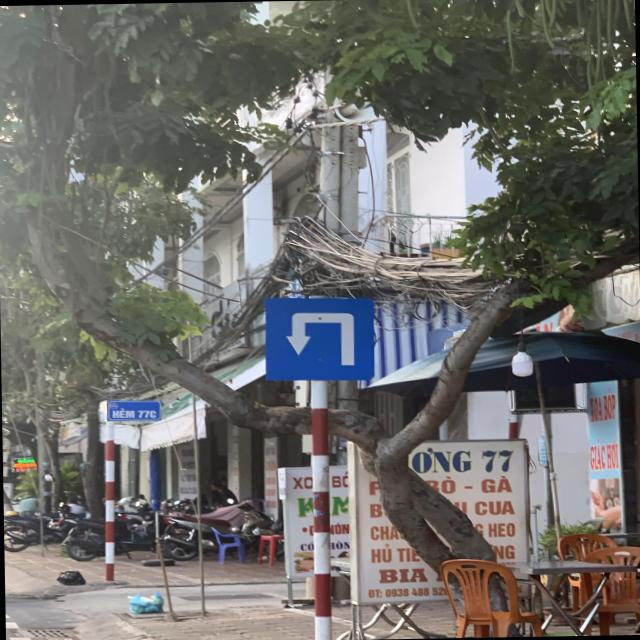Den_Giao_Thong: (264, 296, 376, 382)
